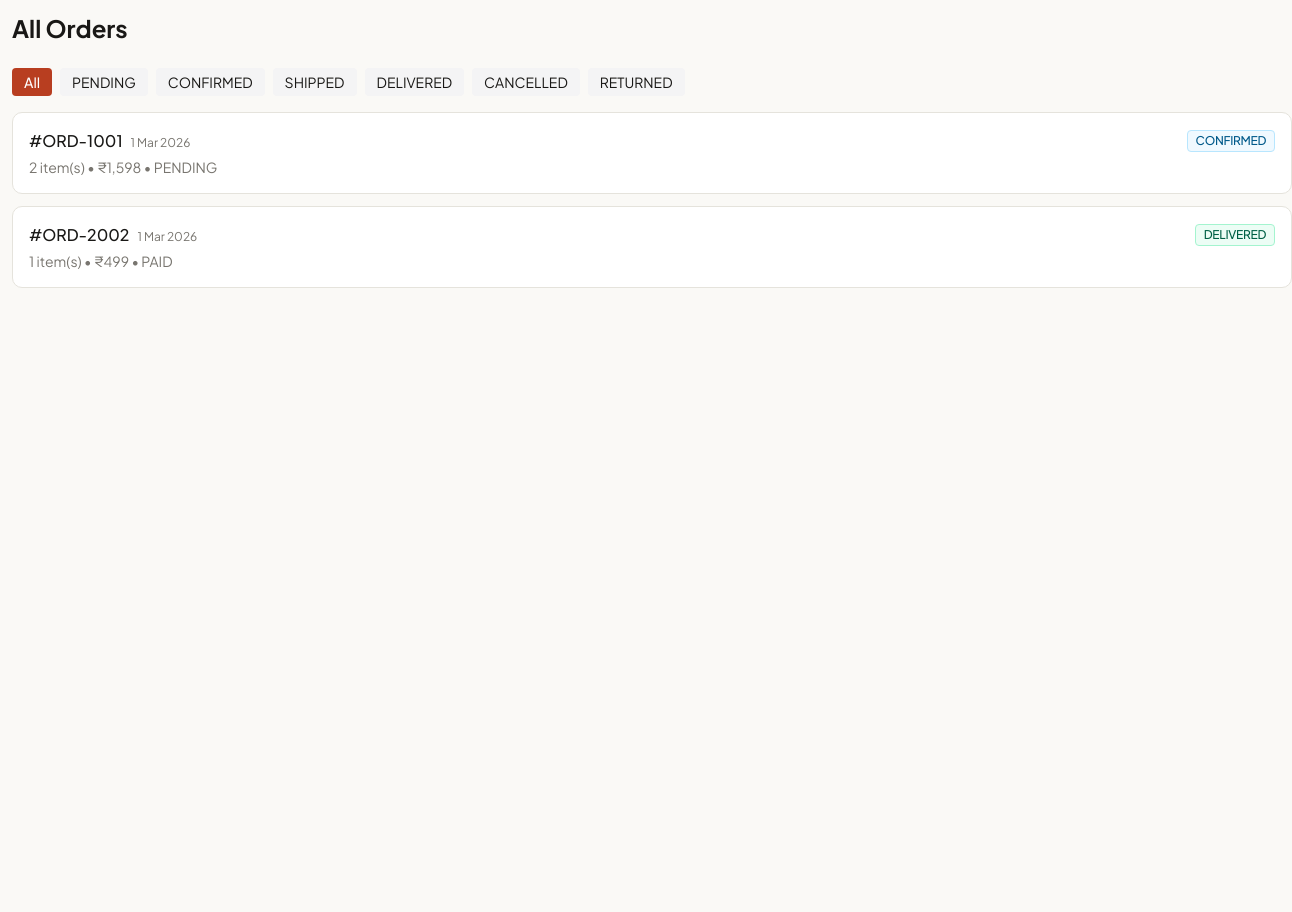
it: Super Admin individual order navigation › opens the correct details for each respective order
Click the text "#ORD-2002" at coordinates (36, 234), box [29,224,129,245]
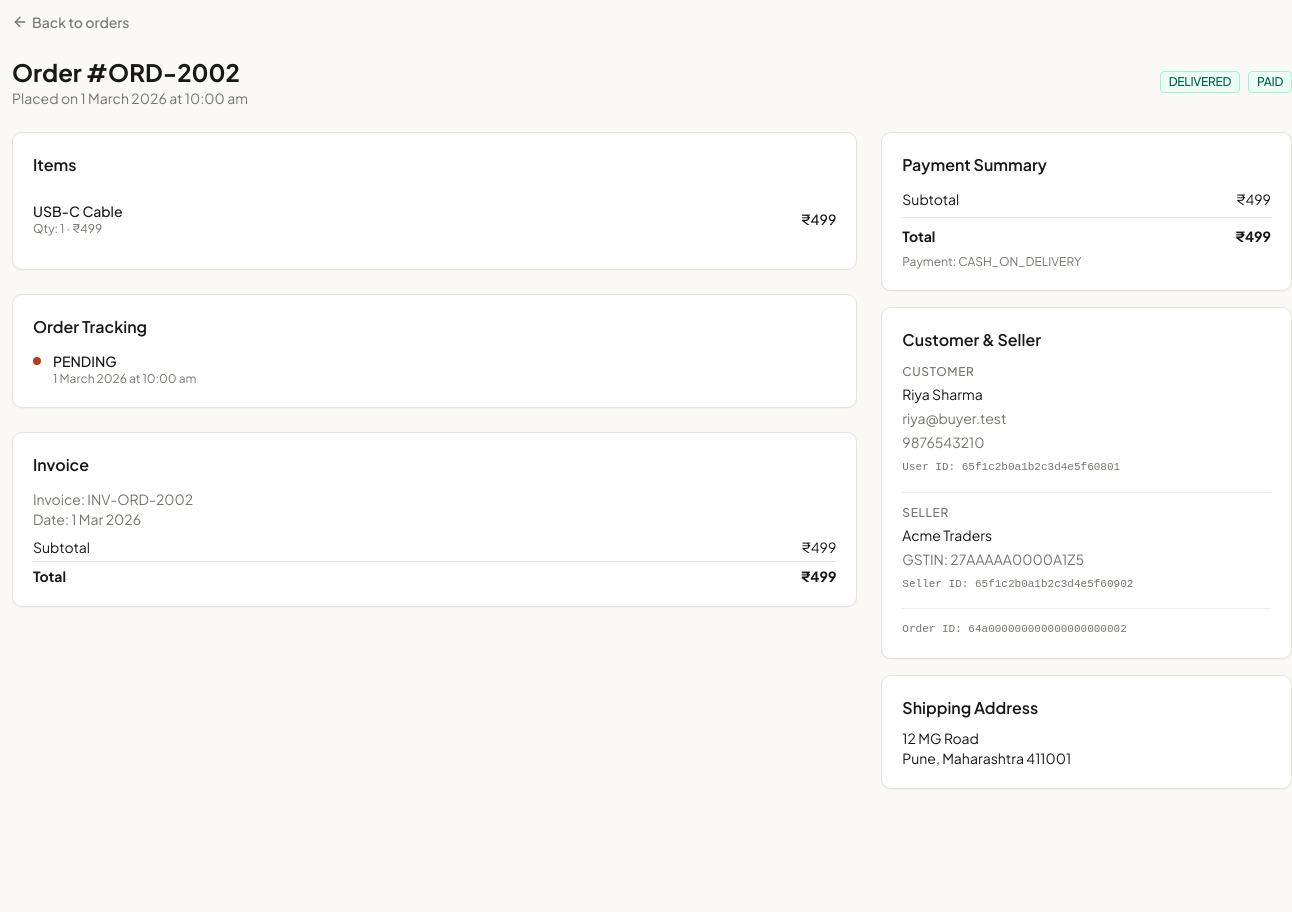
Result: the heading "Order #ORD-2002" is shown at [12,56,248,88]
Result: the link "USB-C Cable" is shown at [33,201,122,221]
